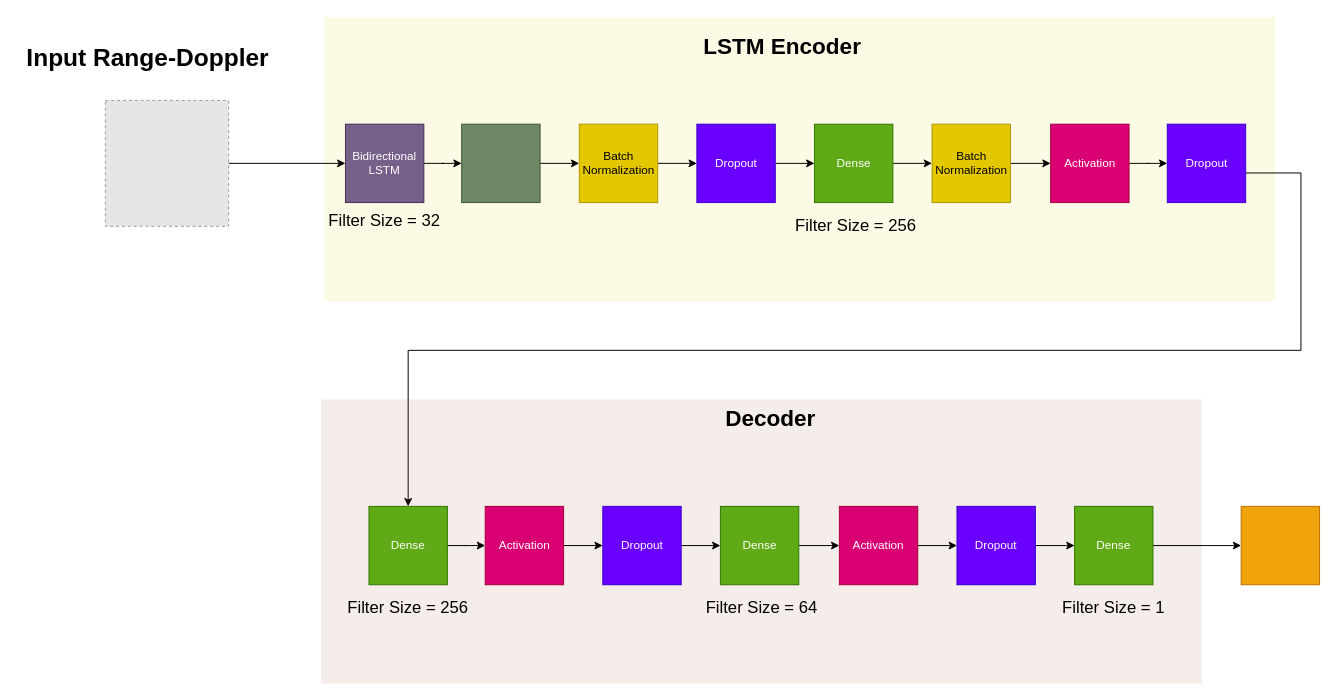
This 1337x700 diagram has some shape labels left out. Grey dashed boxes stand in for pictures. Each missing label, with the box of its shape:
Classifiaction Result: (1240, 505, 1320, 585)
Flatten: (461, 123, 540, 203)
